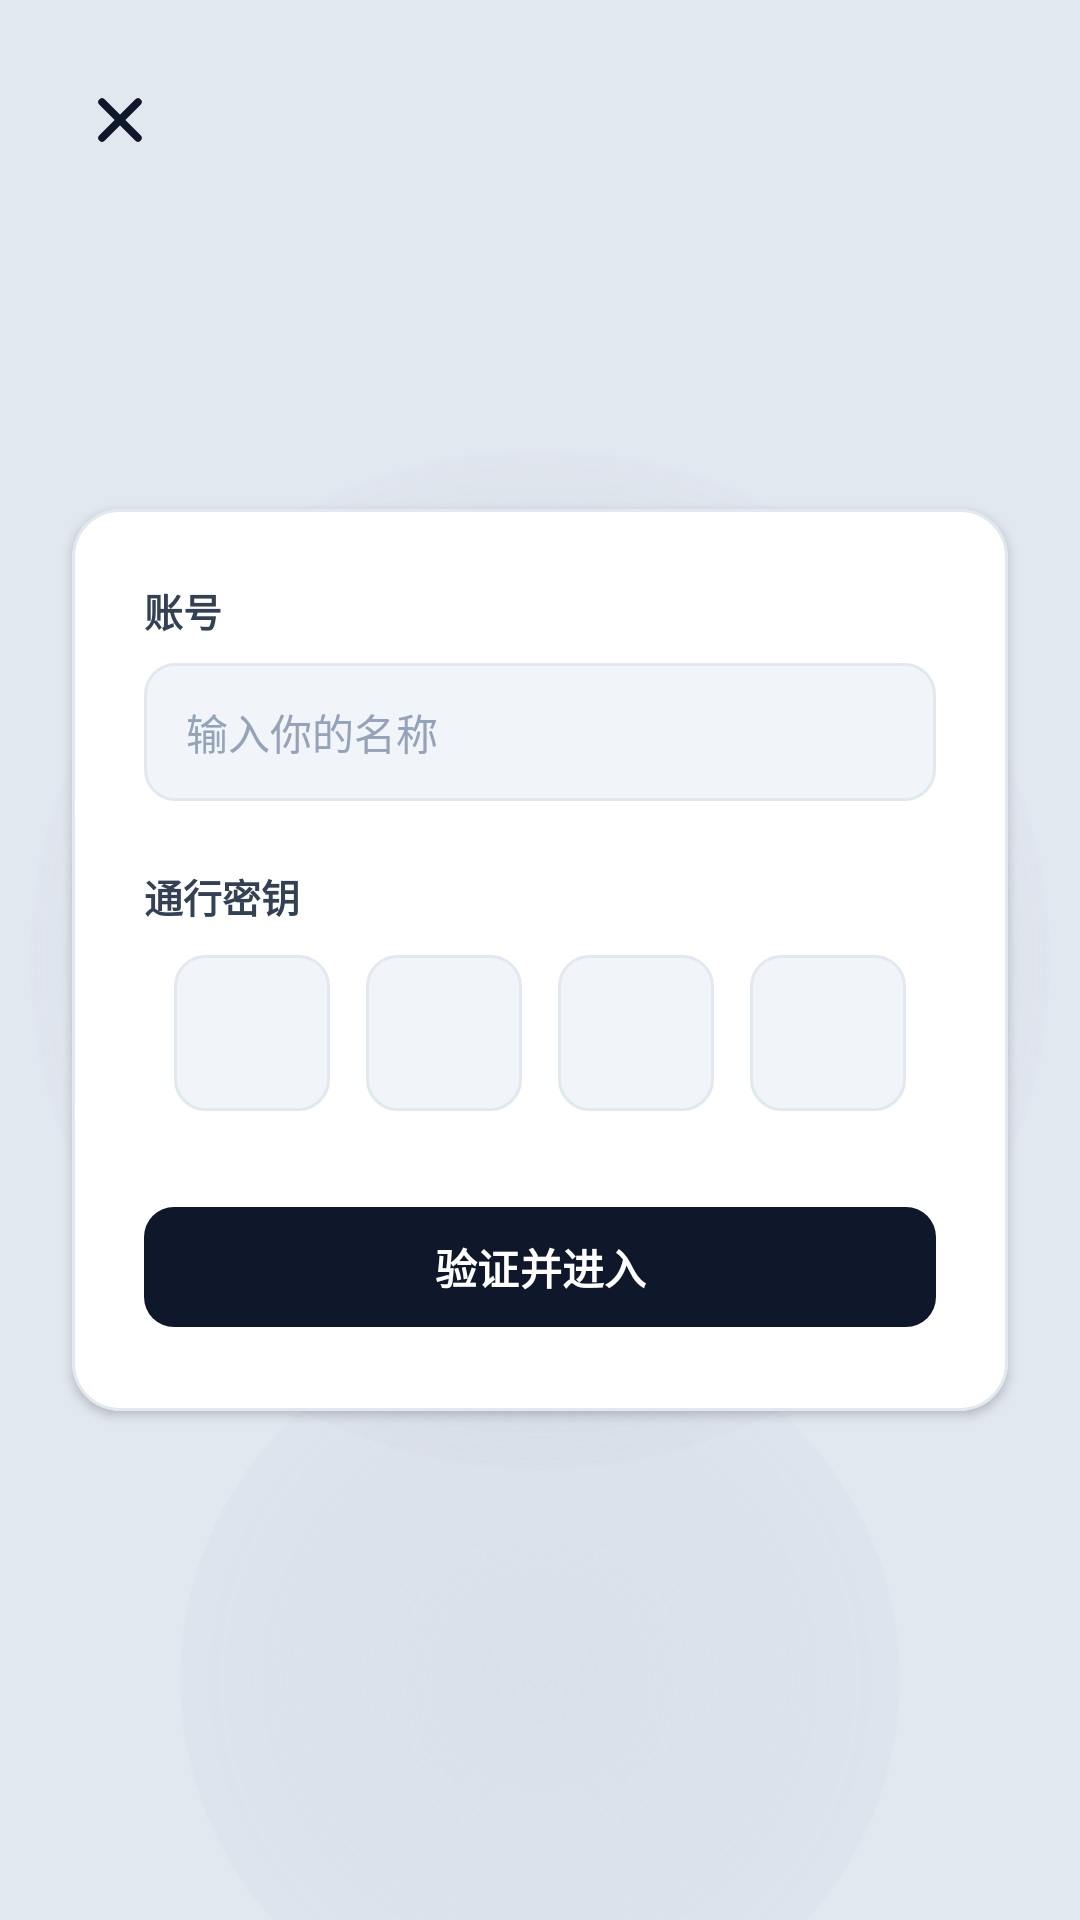

Named icons in this screenshot (1080 × 1920) and their bounding boxes, bbox=(x1, y1, x2, y2):
关闭: bbox=(98, 98, 142, 142)
